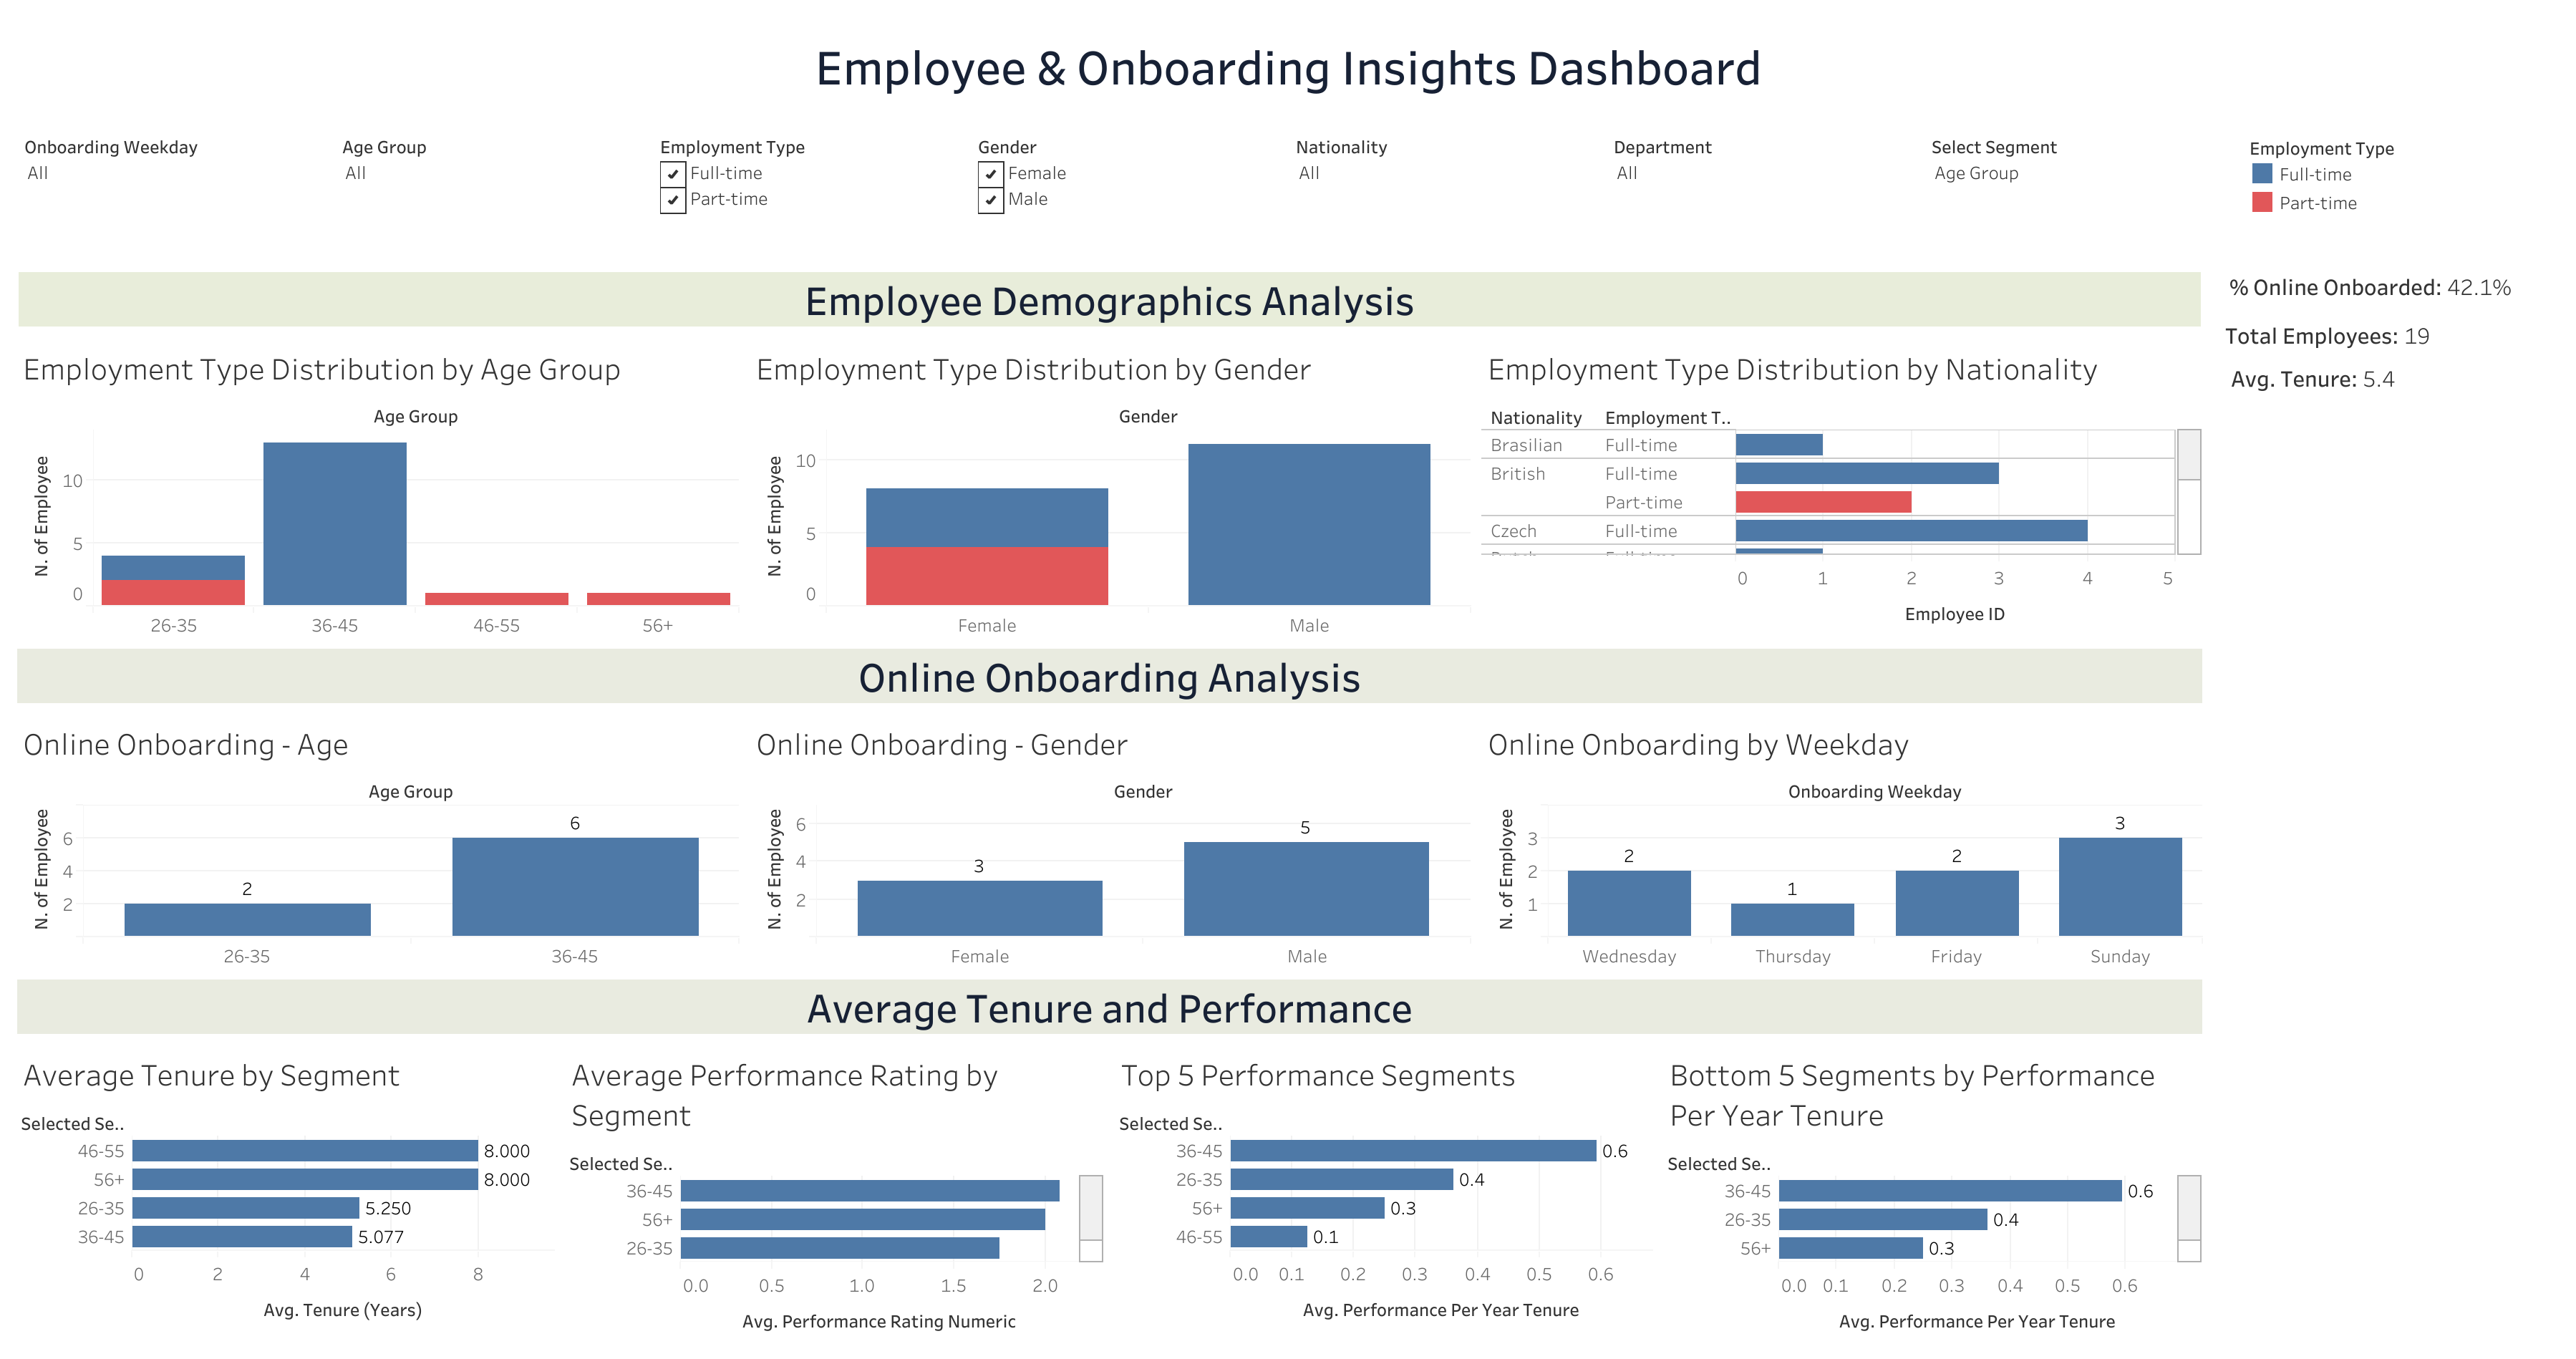

The page's visual inventory and layout, read from the dashboard file:
{"tool":"tableau","page":{"name":"Dashboard 1","canvas":[1800,950],"ordinal":0},"visuals":[{"type":"text","box":[8,8,1784,75.1]},{"type":"filter","title":"% Online Onboarding","param":"[federated.0z5hum711jlxwx1byyx951mdgpax].[none:Calculation_1055547055198456:nk]","box":[13,88,222,92]},{"type":"filter","title":"% Online Onboarding","param":"[federated.0z5hum711jlxwx1byyx951mdgpax].[none:Calculation_1055547054964982:nk]","box":[235,88,222,92]},{"type":"filter","title":"% Online Onboarding","param":"[federated.0z5hum711jlxwx1byyx951mdgpax].[none:EmploymentType:nk]","box":[457,88,222,92]},{"type":"filter","title":"% Online Onboarding","param":"[federated.0z5hum711jlxwx1byyx951mdgpax].[none:Gender:nk]","box":[679,88,222,92]},{"type":"filter","title":"% Online Onboarding","param":"[federated.0z5hum711jlxwx1byyx951mdgpax].[none:Nationality:nk]","box":[901,88,222,92]},{"type":"filter","title":"% Online Onboarding","param":"[federated.0z5hum711jlxwx1byyx951mdgpax].[none:Department:nk]","box":[1123,88,222,92]},{"type":"parameter","param":"[Parameters].[Parameter 1]","box":[1345,88,221,92]},{"type":"legend","title":"Employment Type Distribution by Age Group","param":"[federated.0z5hum711jlxwx1byyx951mdgpax].[none:EmploymentType:nk]","box":[1566,88,221,92]},{"type":"text","box":[8,185,1534,48]},{"type":"worksheet","title":"% Online Onboarding","mark":"Automatic","box":[1542,185,250,34]},{"type":"worksheet","title":"Total Employees","mark":"Automatic","box":[1542,219,250,30]},{"type":"worksheet","title":"Employment Type Distribution by Age Group","mark":"Bar","rows":["EmployeeID"],"cols":["Calculation_1055547054964982"],"box":[8,233,512,216]},{"type":"worksheet","title":"Employment Type Distribution by Gender","mark":"Bar","rows":["EmployeeID"],"cols":["Gender"],"box":[520,233,511,216]},{"type":"worksheet","title":"Employment Type Distribution by Nationality","mark":"Automatic","rows":["Nationality","EmploymentType"],"cols":["EmployeeID"],"box":[1031,233,511,216]},{"type":"worksheet","title":"Avg. Company Tenure","mark":"Automatic","box":[1542,249,250,30]},{"type":"text","box":[8,449,1534,46]},{"type":"worksheet","title":"Online Onboarding - Age","mark":"Bar","rows":["EmployeeID"],"cols":["Calculation_1055547054964982"],"box":[8,495,512,185]},{"type":"worksheet","title":"Online Onboarding - Gender","mark":"Automatic","rows":["EmployeeID"],"cols":["Gender"],"box":[520,495,511,185]},{"type":"worksheet","title":"Online Onboarding by Weekday","mark":"Automatic","rows":["EmployeeID"],"cols":["Calculation_1055547055198456"],"box":[1031,495,511,185]},{"type":"text","box":[8,680,1534,46]},{"type":"worksheet","title":"Average Tenure by Segment","mark":"Automatic","rows":["Calculation_1055547095777293"],"cols":["Calculation_1055547055026423"],"box":[8,726,383.5,216]},{"type":"worksheet","title":"Average Performance Rating by Segment","mark":"Automatic","rows":["Calculation_1055547095777293"],"cols":["Calculation_1055547055374585"],"box":[391.5,726,383.5,216]},{"type":"worksheet","title":"Top 5 Performance Segments","mark":"Automatic","rows":["Calculation_1055547095777293"],"cols":["Calculation_1055547056521466"],"box":[775,726,383.5,216]},{"type":"worksheet","title":"Bottom 5 Performance Segments (2)","mark":"Automatic","rows":["Calculation_1055547095777293"],"cols":["Calculation_1055547056521466"],"box":[1158.5,726,383.5,216]}]}

Visuals, with their boxes in screenshot pixels (x1, y1, x2, y2), scaled from the page's 1800x950 canvas onto the 2576x1359 screenshot:
text: 11,11,2565,119
"% Online Onboarding" filter: 19,126,336,258
"% Online Onboarding" filter: 336,126,654,258
"% Online Onboarding" filter: 654,126,972,258
"% Online Onboarding" filter: 972,126,1289,258
"% Online Onboarding" filter: 1289,126,1607,258
"% Online Onboarding" filter: 1607,126,1925,258
parameter: 1925,126,2241,258
"Employment Type Distribution by Age Group" legend: 2241,126,2557,258
text: 11,265,2207,334
"% Online Onboarding" worksheet: 2207,265,2565,314
"Total Employees" worksheet: 2207,314,2565,356
"Employment Type Distribution by Age Group" worksheet (Bar marks): 11,334,744,642
"Employment Type Distribution by Gender" worksheet (Bar marks): 744,334,1476,642
"Employment Type Distribution by Nationality" worksheet: 1476,334,2207,642
"Avg. Company Tenure" worksheet: 2207,356,2565,399
text: 11,642,2207,708
"Online Onboarding - Age" worksheet (Bar marks): 11,708,744,973
"Online Onboarding - Gender" worksheet: 744,708,1476,973
"Online Onboarding by Weekday" worksheet: 1476,708,2207,973
text: 11,973,2207,1038
"Average Tenure by Segment" worksheet: 11,1038,561,1348
"Average Performance Rating by Segment" worksheet: 561,1038,1109,1348
"Top 5 Performance Segments" worksheet: 1109,1038,1658,1348
"Bottom 5 Performance Segments (2)" worksheet: 1658,1038,2207,1348
